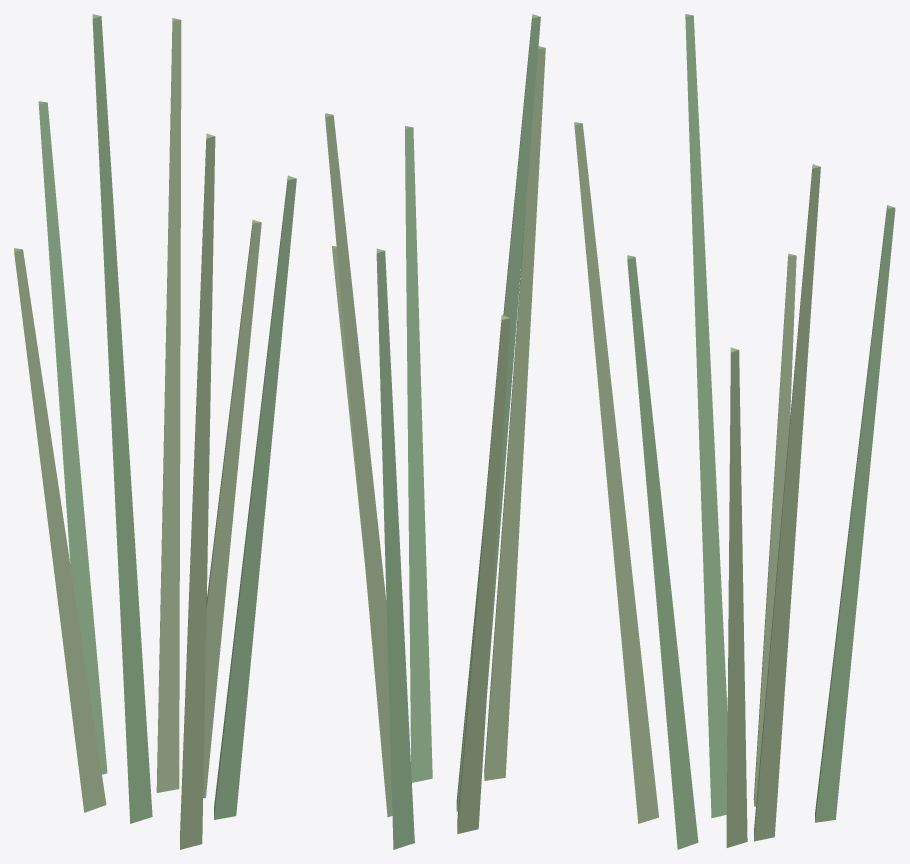
The model's file is reed_v06.glb.
3 renders of one model, left to right at view 1: azimuth 30°, elevation 25°; view 2: azimuth 150°, elevation 25°; view 3: azimuth 270°, elevation 25°, orthographic. The views are drawn at different scales.
Parts seen in each view (by area): view 1: lod0; view 2: lod0; view 3: lod0.
Part boxes in pixels (x1=…): lod0: x1=14, y1=14, x2=296, y2=849; lod0: x1=325, y1=14, x2=545, y2=849; lod0: x1=574, y1=14, x2=895, y2=849.
Size of what is drawn, in the model's own units: 0.3349 by 1.22 by 0.4604.
